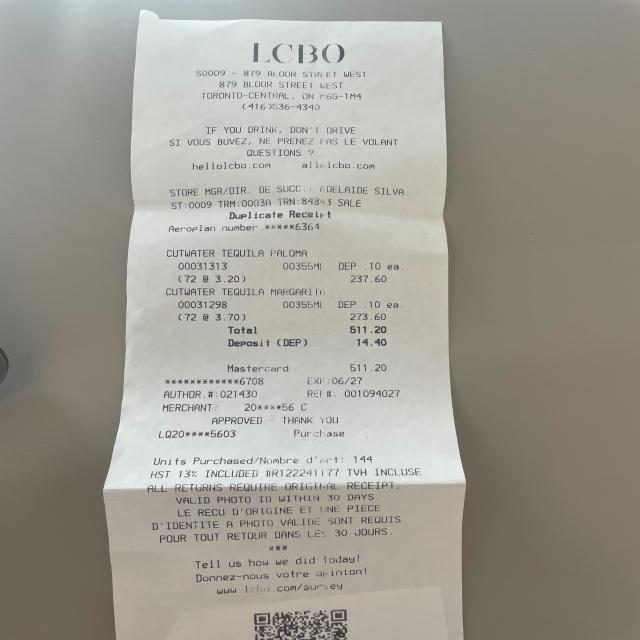item: (161, 247, 408, 284), (162, 286, 408, 322)
store_name: (242, 38, 350, 69)
total_amount: (222, 323, 393, 338)
